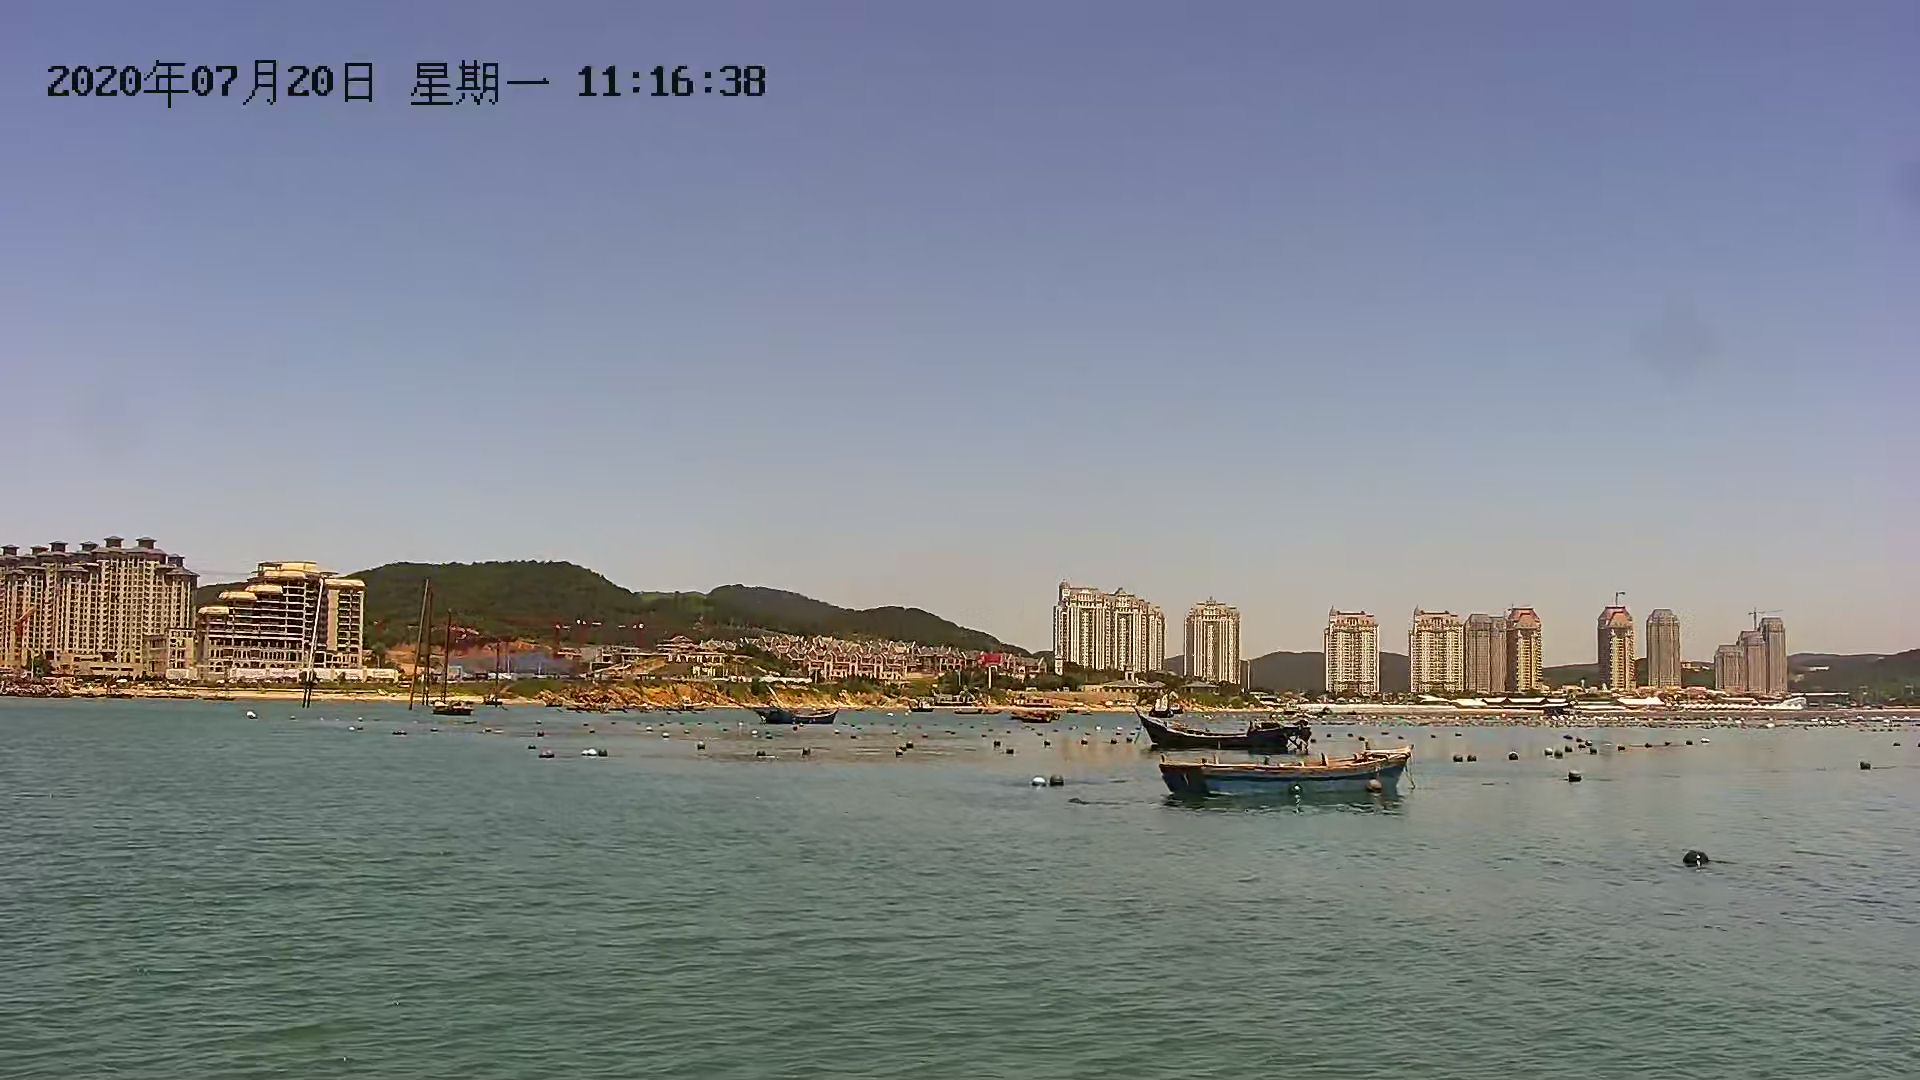ball: (1675, 845, 1721, 868), (1029, 775, 1048, 793), (1044, 773, 1069, 786)
boat: (1153, 754, 1410, 816), (1131, 715, 1323, 756)
